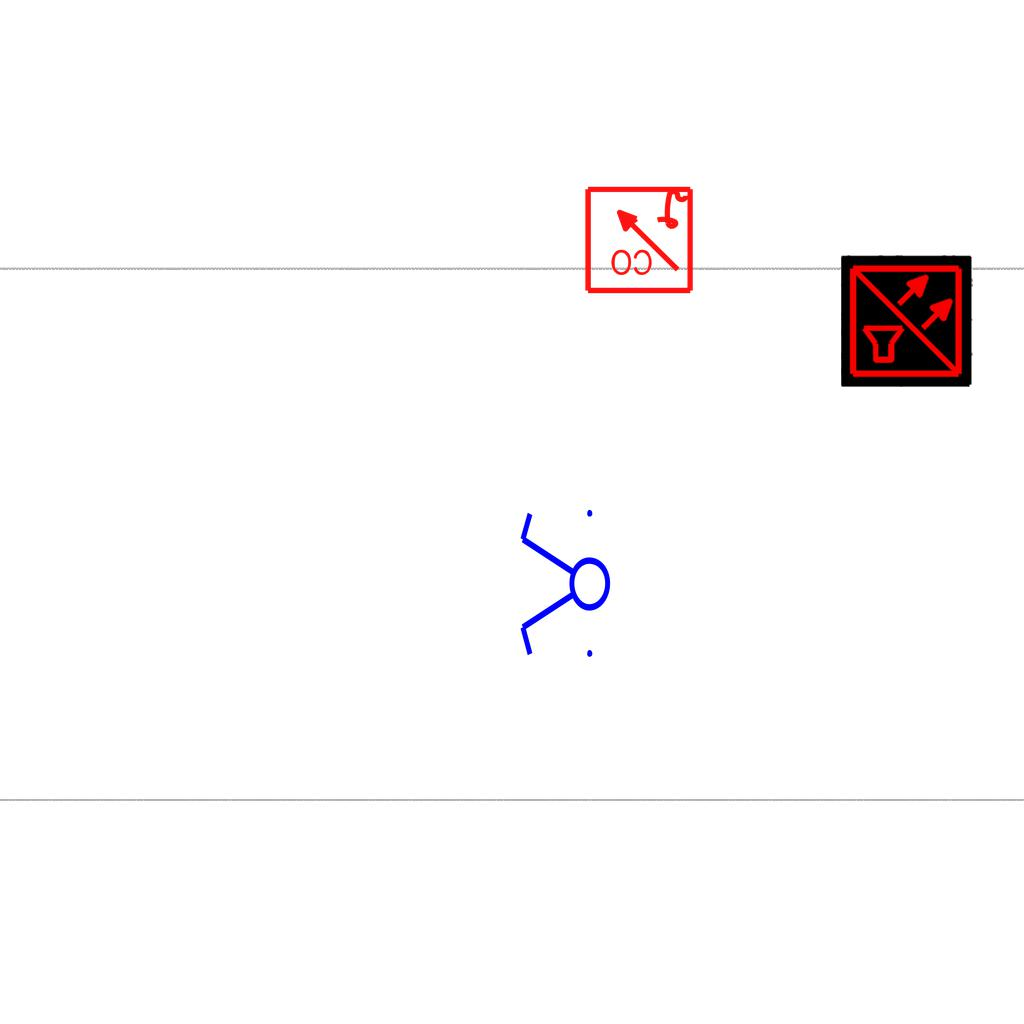OKW_Multisensormelder_(Kombination_optischer_Rauch-Kahlenmonoxid_Waerme-Melder): (841, 255, 973, 387)
ROA_Rauchmelder_optisch_mit_Signalgeber_(Sockelsirene): (582, 182, 695, 295)
Serienschalter: (516, 501, 612, 669)
